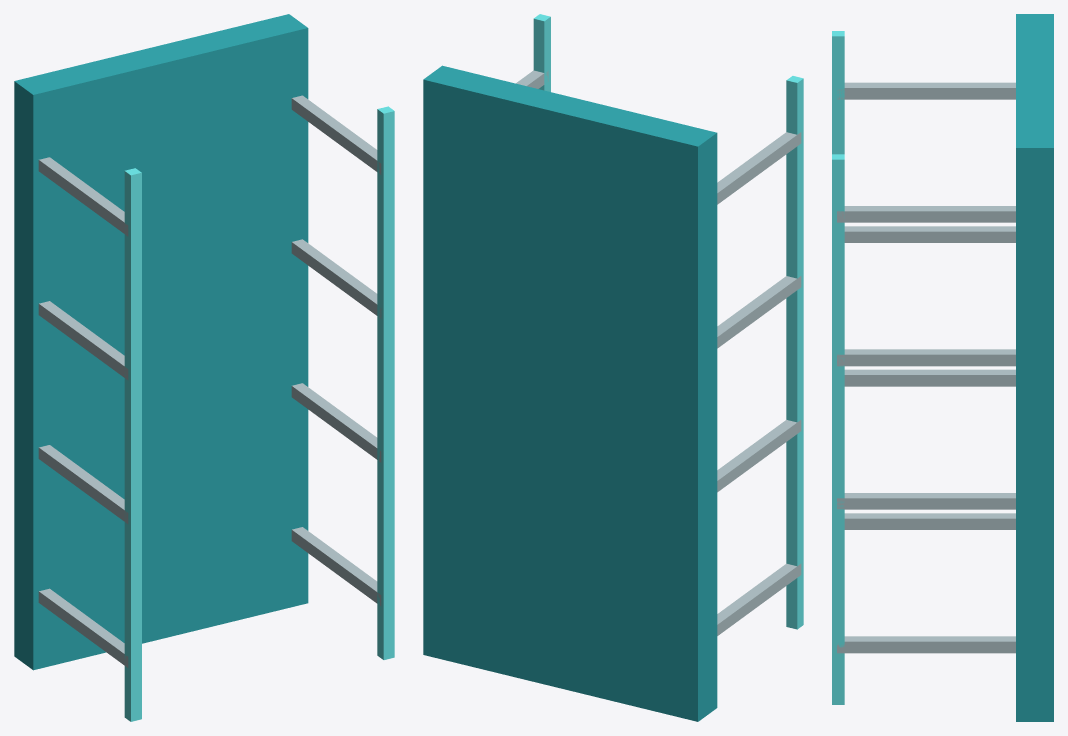
Rendered from entry-ramp.glb.
3 views of the same model, side by side, from view 1: azimuth 30°, elevation 25°; view 2: azimuth 150°, elevation 25°; view 3: azimuth 270°, elevation 25° (orthographic).
Visible parts, largest first — view 1: world; view 2: world; view 3: world.
Boxes of the visible parts, left/top/right/bottom form: world: left=14, top=14, right=394, bottom=721; world: left=423, top=14, right=803, bottom=721; world: left=832, top=14, right=1053, bottom=721.
Bounding box in the file's own units: 1 × 2 × 0.7.
